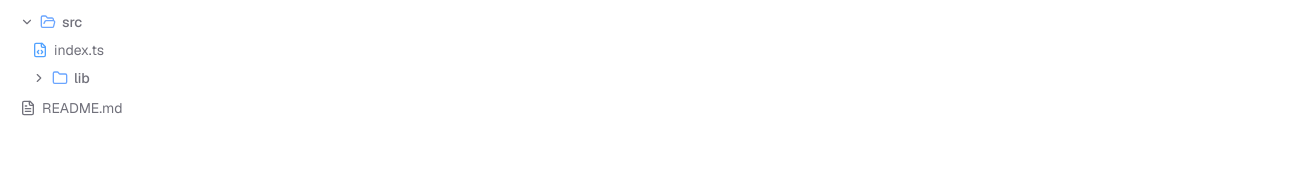
Scenario: FileTree › marks directories as expanded or collapsed and leaves files alone
The image size is (1304, 189).
Click the button "lib".
click(39, 78)  # box [12,64,1292,92]
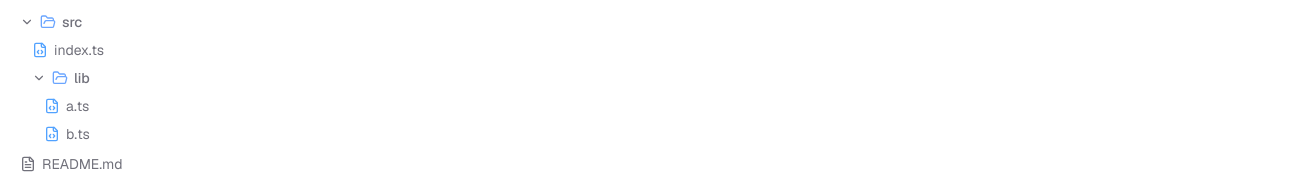
Now the list item "lib a.ts b.ts" is expanded, box [12,64,1292,148]
